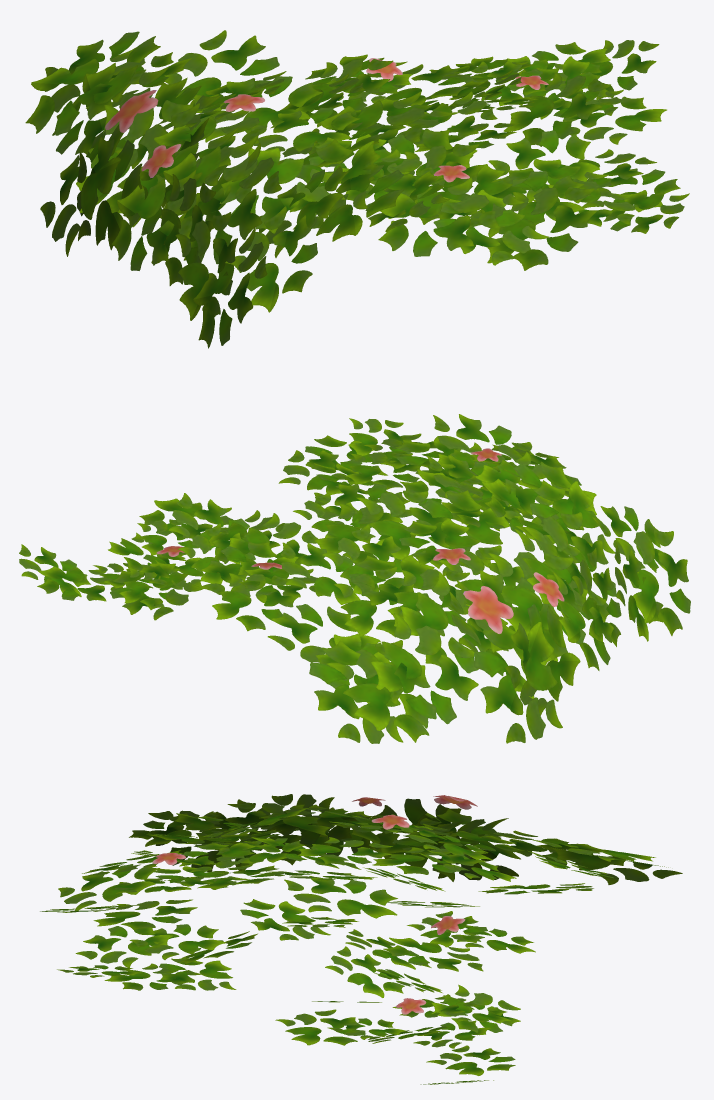
File: P_IvyCoastal04.obj
The picture shows the model from 3 angles, top to bottom: view 1: azimuth 30°, elevation 25°; view 2: azimuth 150°, elevation 25°; view 3: azimuth 270°, elevation 25°; orthographic projection. The views are drawn at different scales.
Bounding box in the file's own units: 5.2 × 1.39 × 5.62.
